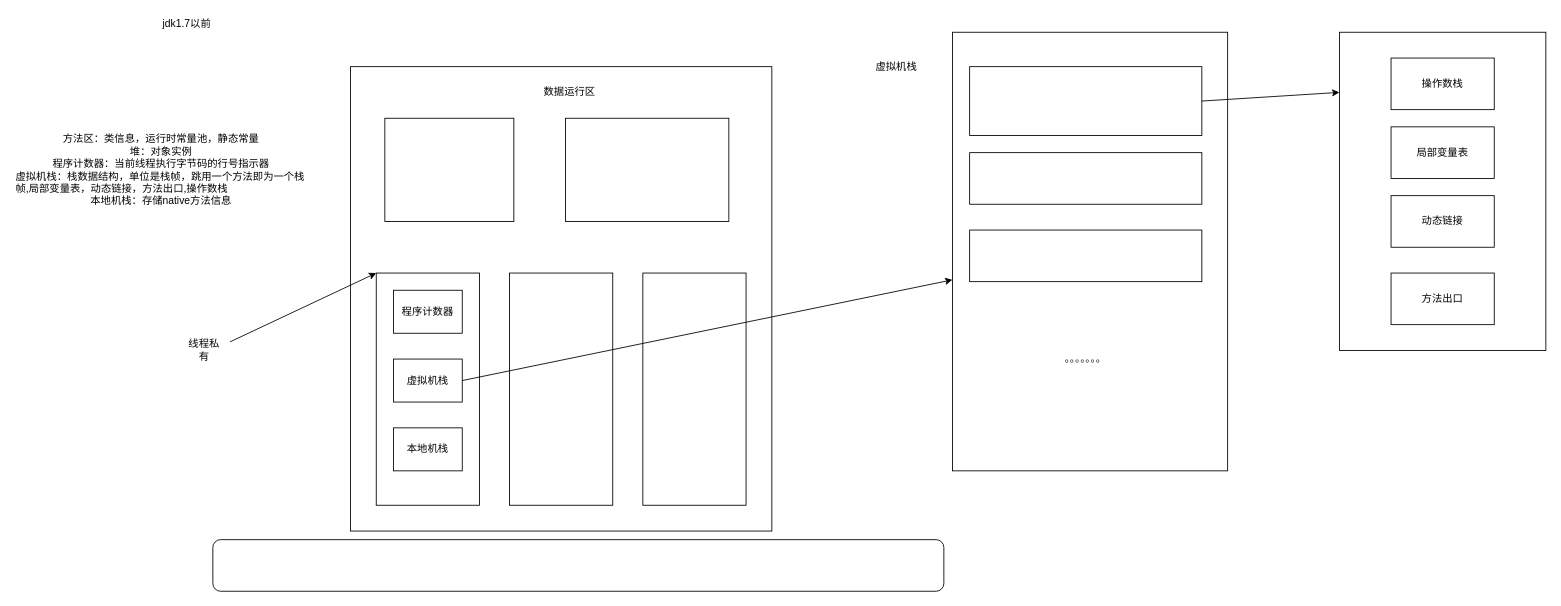
Image size: 1561x606. Some labels were removed from this diagram. Here are the shapes that lost their labels. From the top down, the centre of each, then its label:
At (1085,100): "栈帧(即调用一个方法)".
At (449,169): "方法区".
At (647,169): "heap".
At (578,565): "system Memory".
